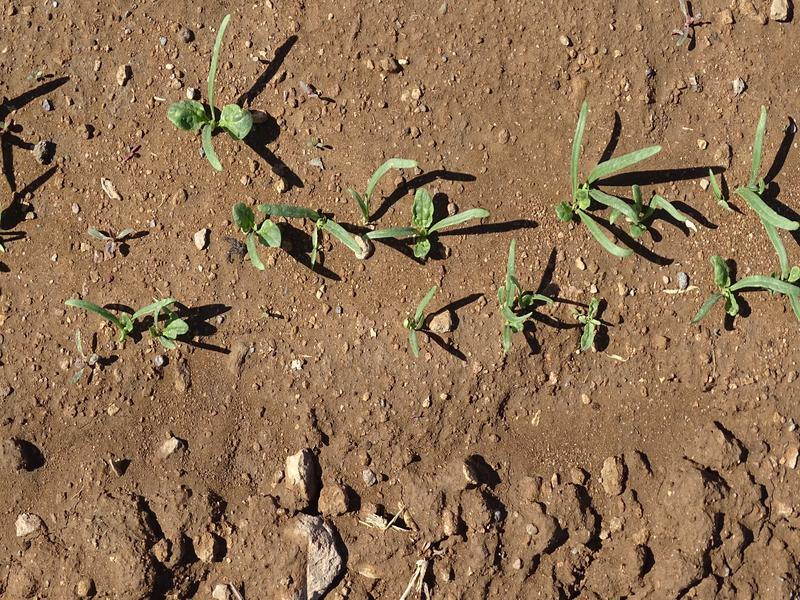Espinaca: (550, 115, 800, 356), (228, 170, 478, 261), (171, 11, 255, 173), (59, 287, 199, 354), (497, 245, 536, 348), (400, 290, 435, 359)
